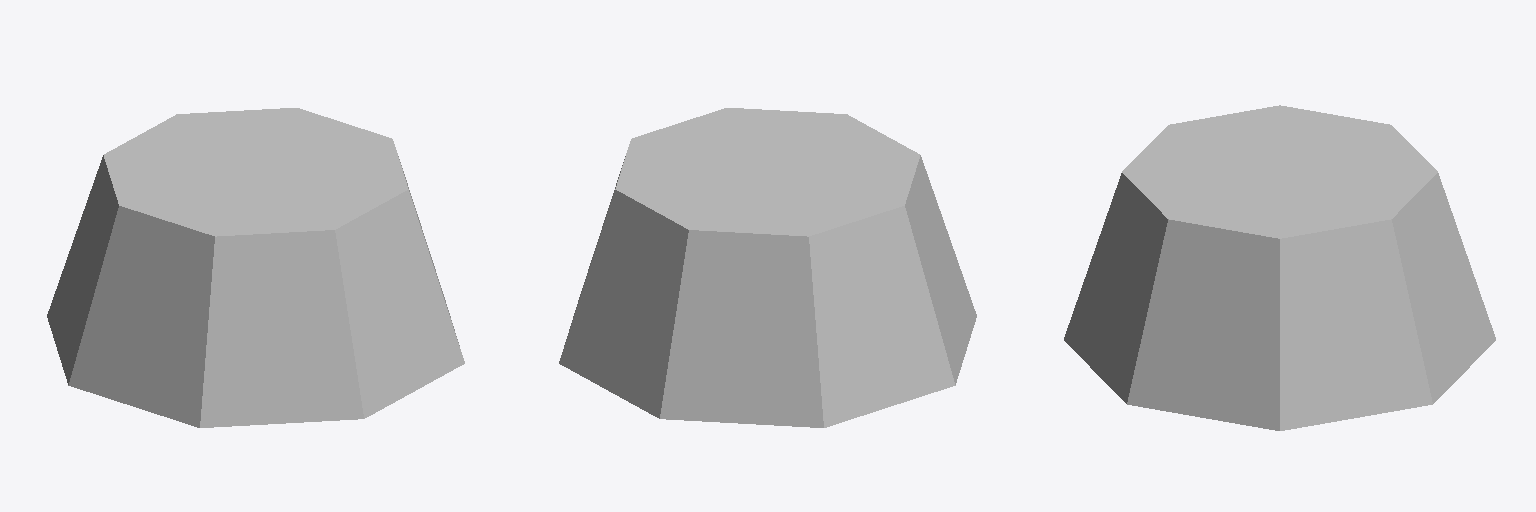
The model's file is tavreli-7.obj.
The picture shows the model from 3 angles: view 1: azimuth 30°, elevation 25°; view 2: azimuth 150°, elevation 25°; view 3: azimuth 270°, elevation 25°; orthographic projection.
Parts seen in each view (by area): view 1: Mesh1 Model; view 2: Mesh1 Model; view 3: Mesh1 Model.
Part boxes in pixels (x1,y1,x2,y2): Mesh1 Model: (47, 108, 464, 427); Mesh1 Model: (559, 108, 976, 427); Mesh1 Model: (1064, 105, 1495, 430).
Size of the model in its own units: 4.27 by 1.83 by 4.27.